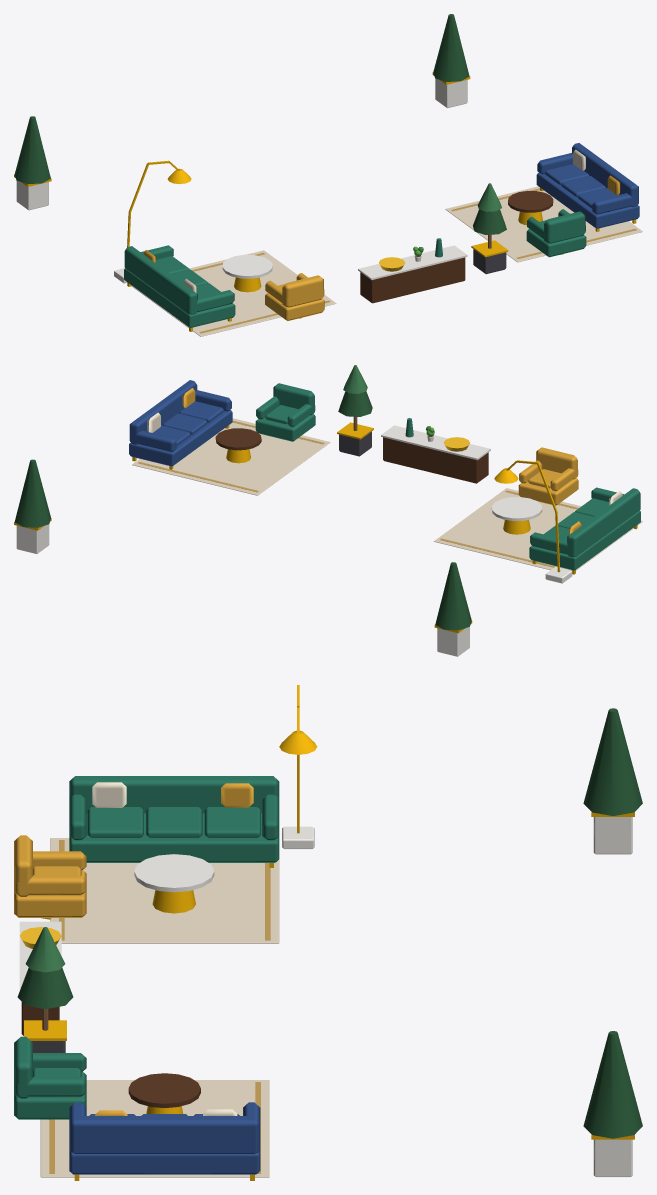
The model's file is einrichtung_lounge.glb.
The picture shows the model from 3 angles, top to bottom: view 1: azimuth 30°, elevation 25°; view 2: azimuth 150°, elevation 25°; view 3: azimuth 270°, elevation 25°; orthographic projection. The views are drawn at different scales.
Visible parts, largest first — view 1: einrichtung_lounge; view 2: einrichtung_lounge; view 3: einrichtung_lounge.
Boxes of the visible parts, <box> form: einrichtung_lounge: <box>14,14,642,336</box>; einrichtung_lounge: <box>14,365,642,656</box>; einrichtung_lounge: <box>14,685,642,1180</box>.
Bounding box in the file's own units: 8.64 × 2.01 × 6.59.
